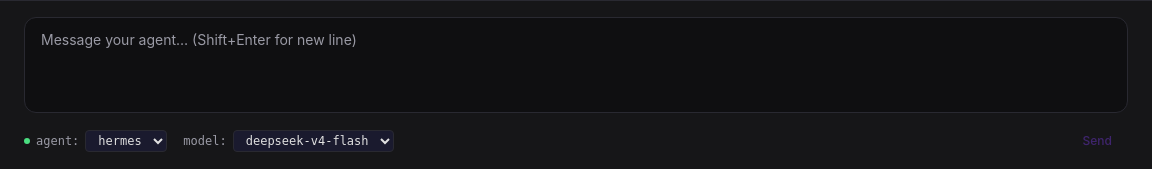
it: Composer slash menu › navigates with arrow keys
In the text box: (576, 65) top-left (24, 17), bottom-right (1128, 113), type "/"
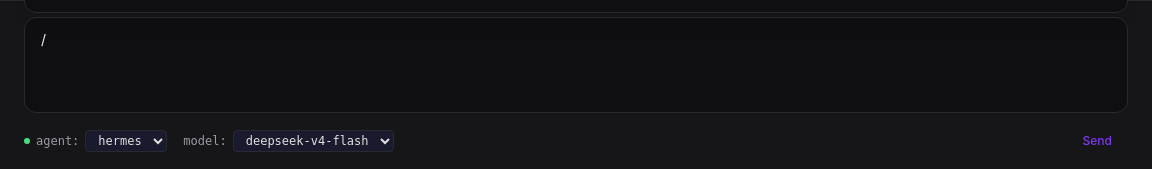
Press Arrowdown Enter
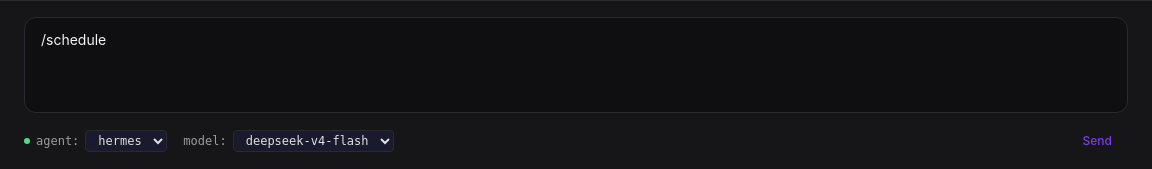
Result: the text box holds "/schedule " at top-left (24, 17), bottom-right (1128, 113)
